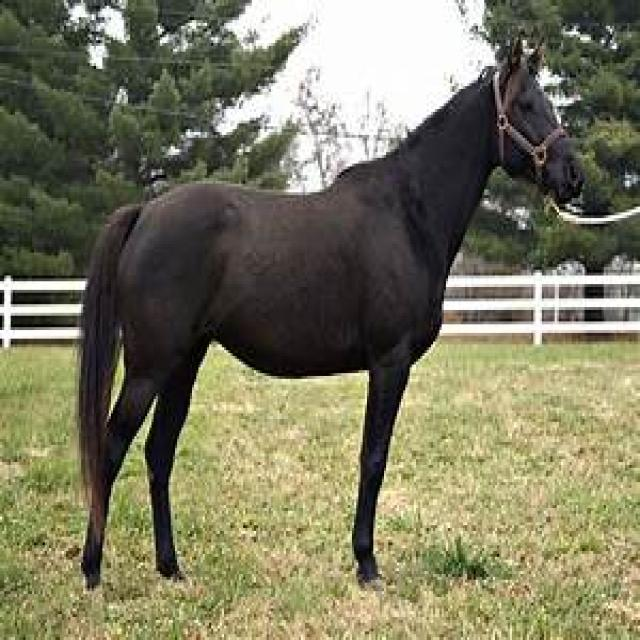horse: (75, 34, 584, 592)
